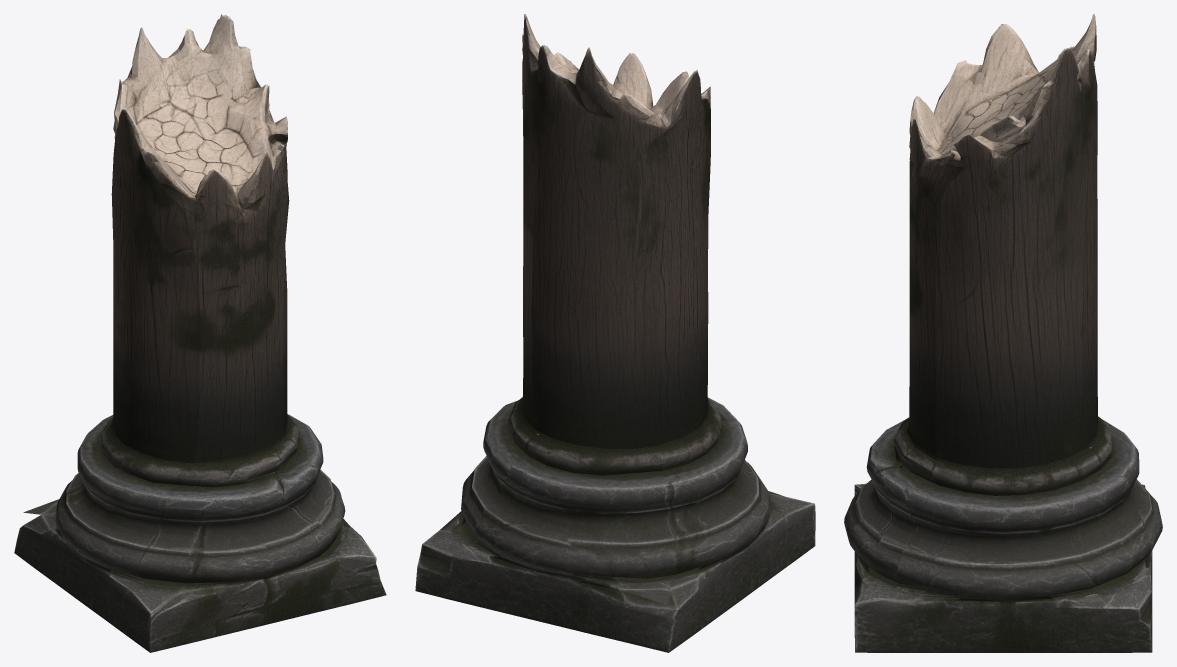
File: ok-ruin-column-meshy.glb
3 views of the same model, side by side, from view 1: azimuth 30°, elevation 25°; view 2: azimuth 150°, elevation 25°; view 3: azimuth 270°, elevation 25° (orthographic). The views are drawn at different scales.
Size of the model in its own units: 0.9571 by 1.89 by 0.9577.
Materials: 1 (1 with a texture image).
